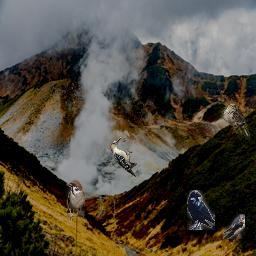Crow: (187, 190, 215, 230)
Sparrow: (221, 101, 250, 139), (66, 180, 85, 220)
Swallow: (223, 214, 245, 239)
Woodpecker: (110, 137, 137, 177)
